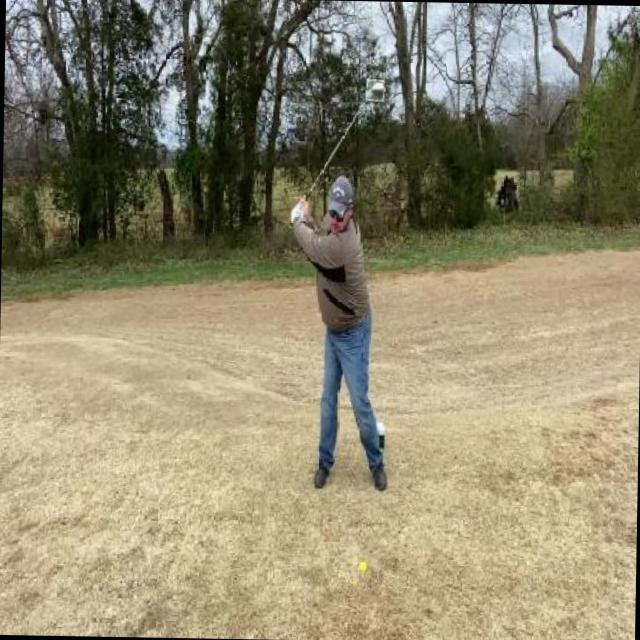club head: (366, 79, 384, 101)
